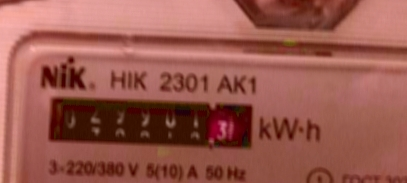0: (161, 103, 176, 129), (60, 106, 77, 128)
1: (186, 105, 200, 129)
2: (85, 104, 102, 124)
3: (213, 118, 227, 140)
9: (136, 104, 151, 127), (111, 103, 124, 126)
screen: (33, 85, 263, 158)
